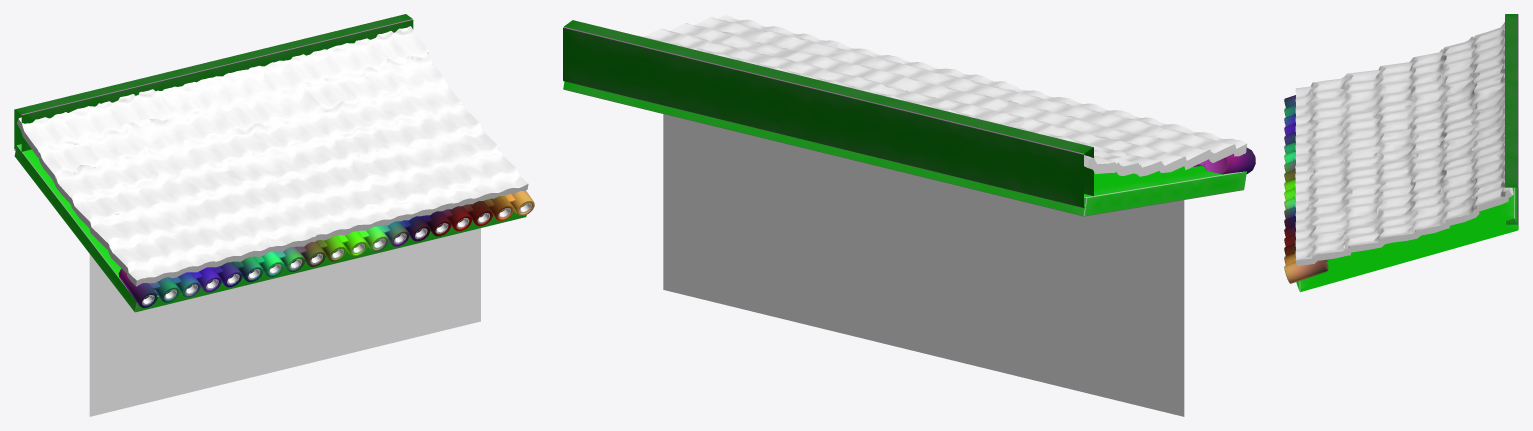
The model's file is roof_fenced_300_01.fbx.
3 renders of one model, left to right at view 1: azimuth 30°, elevation 25°; view 2: azimuth 150°, elevation 25°; view 3: azimuth 270°, elevation 25°, orthographic. The views are drawn at different scales.
Parts seen in each view (by area): view 1: roof_fenced_300_01; view 2: roof_fenced_300_01; view 3: roof_fenced_300_01.
Boxes of the visible parts, bbox=[...] form: roof_fenced_300_01: bbox=[14, 14, 534, 416]; roof_fenced_300_01: bbox=[563, 14, 1255, 416]; roof_fenced_300_01: bbox=[1284, 14, 1518, 292].
Size of the model in its own units: 3.03 by 1.85 by 1.71.
